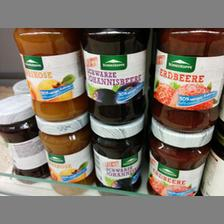Marmelade: (151, 26, 223, 130), (80, 27, 150, 125), (11, 27, 84, 120), (144, 118, 212, 194), (33, 114, 91, 194), (0, 93, 50, 183), (88, 114, 144, 194)
